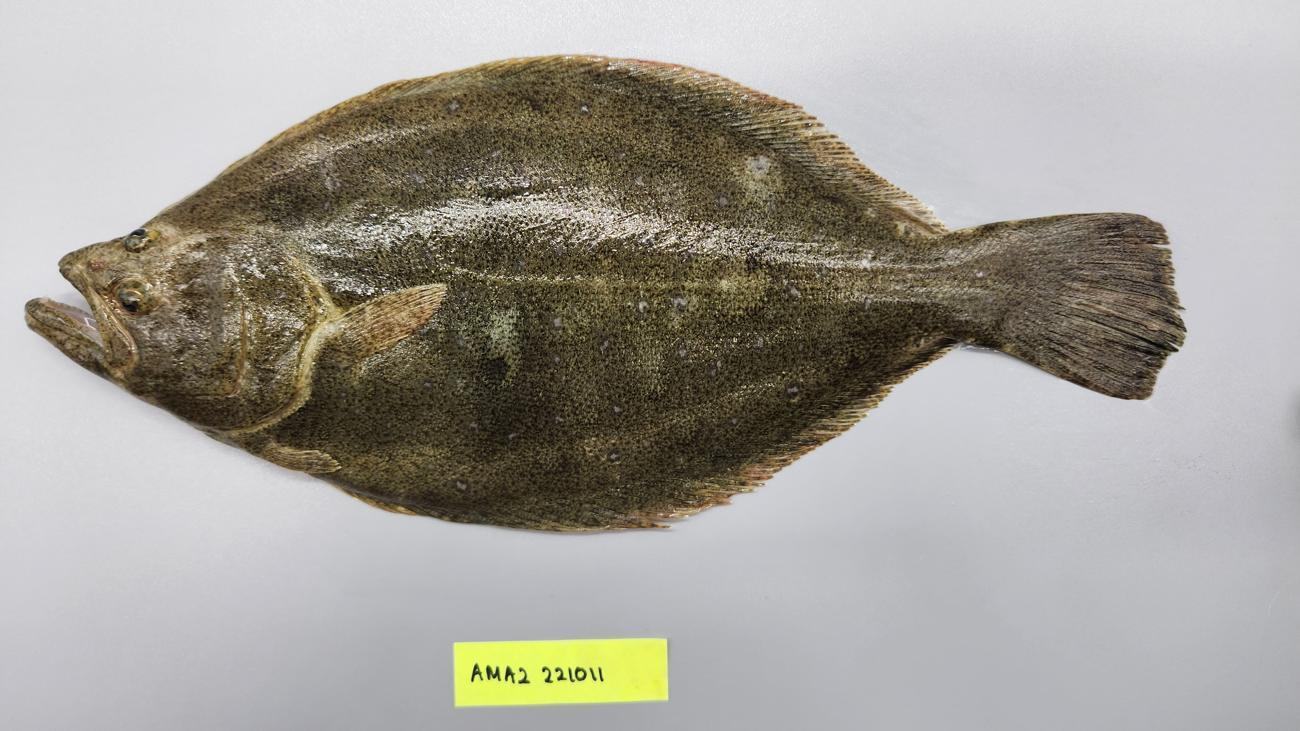MAFCH: (1021, 213, 1186, 400)
MAOUY: (20, 54, 1190, 531)
